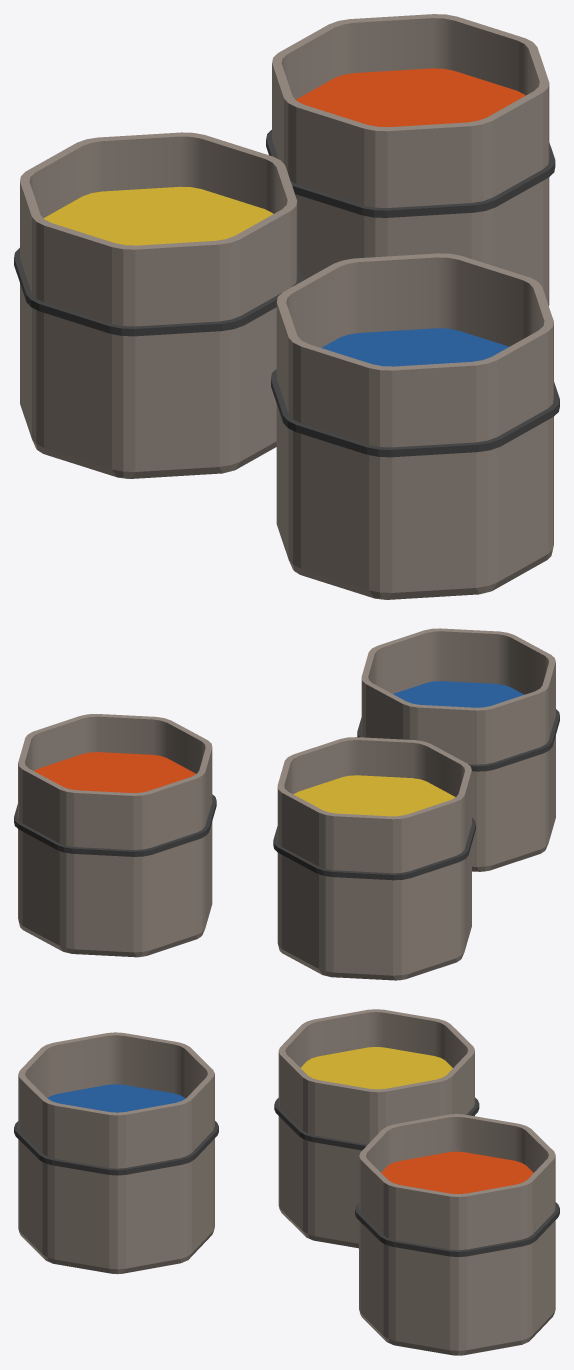
The model's file is bucket_2.fbx.
3 views of the same model, one above another, from view 1: azimuth 30°, elevation 25°; view 2: azimuth 150°, elevation 25°; view 3: azimuth 270°, elevation 25° (orthographic). The views are drawn at different scales.
Parts seen in each view (by area): view 1: Circle.130, Circle.044, Circle.149; view 2: Circle.149, Circle.044, Circle.130; view 3: Circle.130, Circle.149, Circle.044.
Part boxes in pixels (x1,y1,x2,y2): Circle.130: (271, 253, 559, 599); Circle.044: (14, 132, 302, 478); Circle.149: (266, 14, 555, 305); Circle.149: (14, 714, 216, 957); Circle.044: (273, 737, 475, 980); Circle.130: (357, 628, 559, 871); Circle.130: (14, 1032, 218, 1274); Circle.149: (355, 1114, 559, 1355); Circle.044: (274, 1009, 479, 1248).
Size of the model in its own units: 226 by 89.13 by 272.
